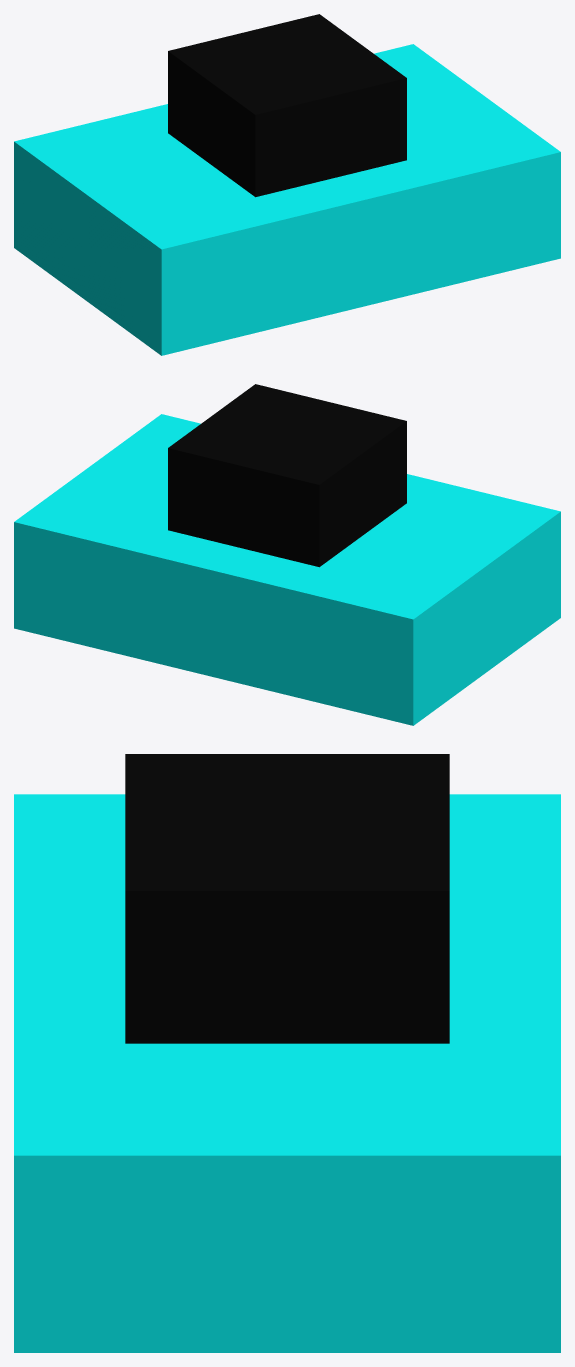
File: bot.obj
3 renders of one model, top to bottom at view 1: azimuth 30°, elevation 25°; view 2: azimuth 150°, elevation 25°; view 3: azimuth 270°, elevation 25°, orthographic. The views are drawn at different scales.
Visible parts, largest first — view 1: pCube30 polySurface26, polySurface25 pCube30; view 2: pCube30 polySurface26, polySurface25 pCube30; view 3: pCube30 polySurface26, polySurface25 pCube30.
Boxes of the visible parts, bbox=[...] form: pCube30 polySurface26: bbox=[14, 44, 560, 355]; polySurface25 pCube30: bbox=[168, 14, 406, 197]; pCube30 polySurface26: bbox=[14, 414, 560, 725]; polySurface25 pCube30: bbox=[168, 384, 406, 567]; pCube30 polySurface26: bbox=[14, 794, 560, 1352]; polySurface25 pCube30: bbox=[125, 754, 449, 1043].
Bounding box in the file's own units: 4.95 × 2.24 × 3.17.
